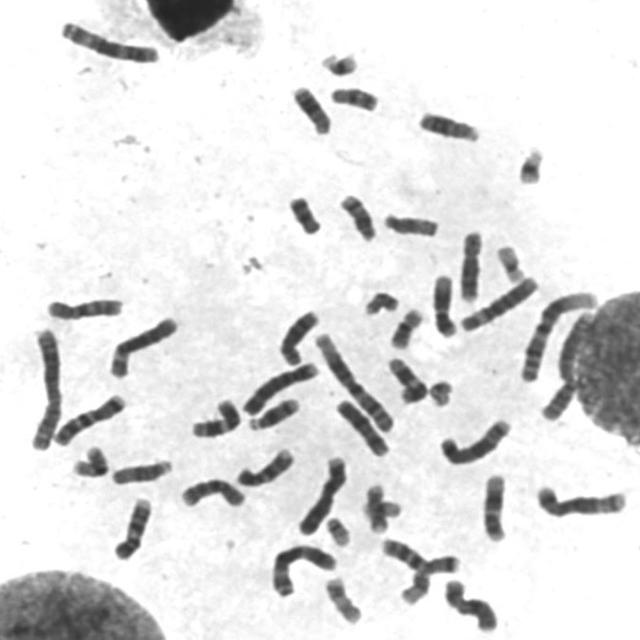A1: (309, 326, 398, 435), (514, 284, 602, 384)
A2: (536, 298, 598, 423), (22, 320, 66, 452)
A3: (54, 13, 162, 65), (264, 538, 340, 598)
B4: (236, 356, 322, 417), (292, 450, 350, 538)
B5: (433, 412, 515, 467), (530, 478, 630, 520)
C10: (175, 472, 248, 510), (41, 290, 127, 322)
C11: (185, 392, 243, 440), (381, 351, 430, 405)
C12: (476, 467, 511, 543), (426, 267, 461, 338)
C6: (455, 269, 542, 334), (102, 310, 182, 380)
C7: (47, 388, 129, 448), (375, 532, 462, 576)
C8: (273, 303, 323, 367), (452, 223, 488, 304)
C9: (106, 491, 156, 562), (230, 442, 298, 489)
D13: (412, 103, 483, 144), (286, 79, 334, 136)
D14: (333, 186, 380, 244), (243, 392, 303, 433)
D15: (105, 453, 175, 487), (378, 206, 442, 240)
E16: (384, 302, 426, 350), (66, 439, 111, 478)
E17: (319, 571, 365, 626), (359, 478, 392, 535)
E18: (282, 188, 325, 236), (324, 79, 382, 114)
F19: (490, 238, 529, 284), (355, 494, 405, 520)
F20: (392, 564, 442, 604), (358, 284, 402, 316)
G21: (510, 139, 548, 186), (314, 43, 362, 78)
G22: (423, 373, 458, 408), (321, 511, 354, 548)
X: (330, 393, 392, 459), (438, 572, 502, 634)
